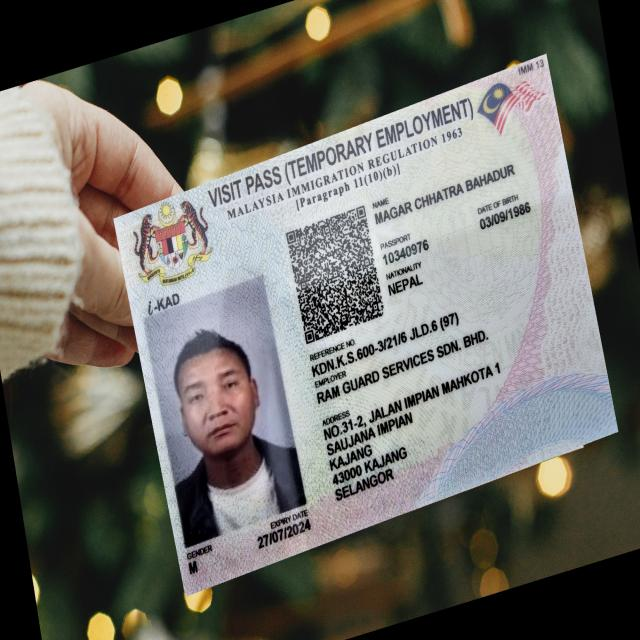ikad-temp: (112, 52, 619, 596)
